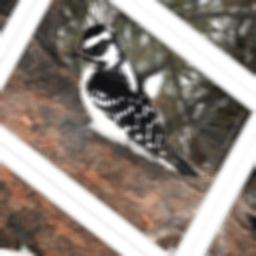Woodpecker: (40, 13, 235, 220)
